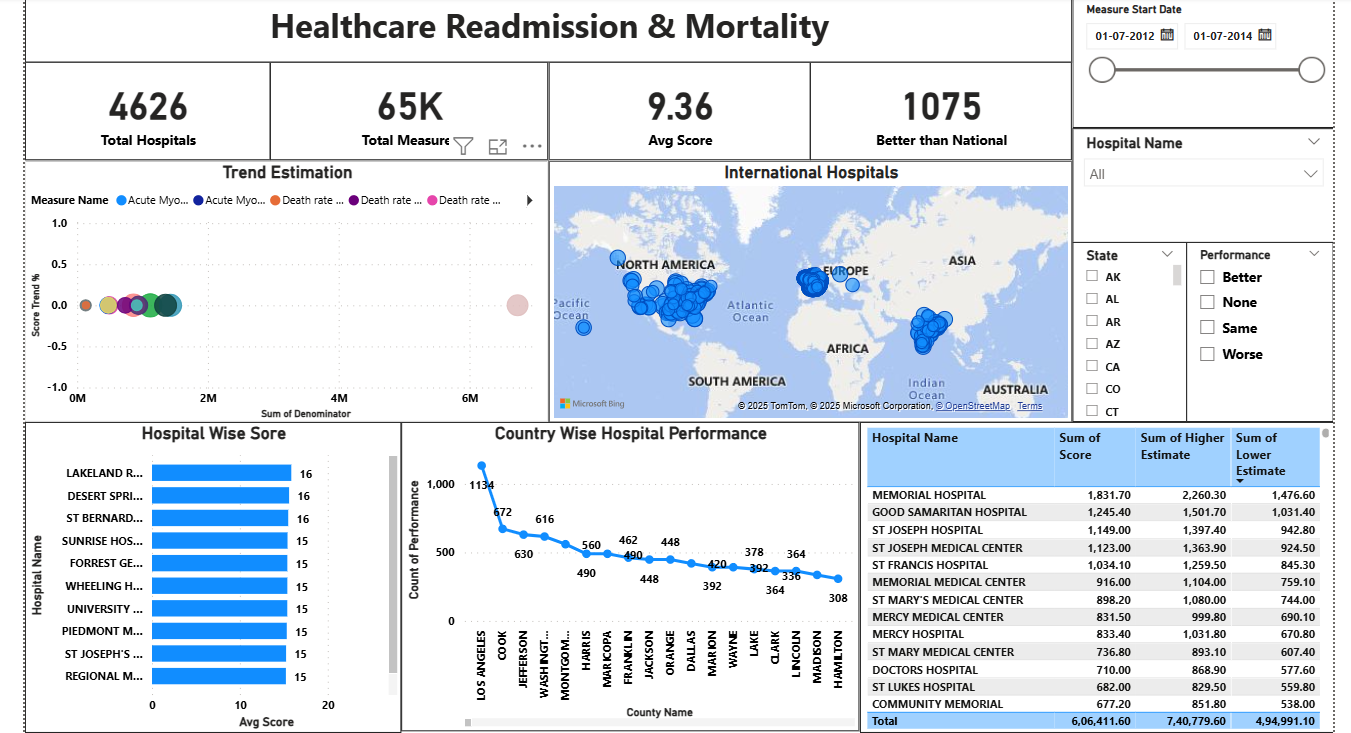

This screenshot's page, from the dashboard's own definition file:
{"tool":"powerbi","page":{"name":"Page 1","canvas":[1280,720],"ordinal":0},"visuals":[{"type":"card","fields":{"Values":["cleaned_healthcare_data.Total Hospitals"]},"box":[0,64,240,96],"z":0},{"type":"card","fields":{"Values":["cleaned_healthcare_data.Total Measures"]},"box":[240,64,272,96],"z":1000},{"type":"card","fields":{"Values":["cleaned_healthcare_data.Avg Score"]},"box":[512,64,256,96],"z":2000},{"type":"card","fields":{"Values":["cleaned_healthcare_data.Better than National"]},"box":[768,64,256,96],"z":3000},{"type":"scatterChart","title":"Trend Estimation","fields":{"X":["Sum(cleaned_healthcare_data.Denominator)"],"Y":["cleaned_healthcare_data.Score Trend %"],"Size":["Sum(cleaned_healthcare_data.Higher Estimate)"],"Series":["cleaned_healthcare_data.Measure Name"]},"box":[0,160,512,256],"z":4000},{"type":"clusteredBarChart","title":"Hospital Wise Sore","fields":{"Category":["cleaned_healthcare_data.Hospital Name"],"Y":["cleaned_healthcare_data.Avg Score"]},"box":[0,416,368,304],"z":5000},{"type":"map","title":"International Hospitals","fields":{"Category":["cleaned_healthcare_data.Latitude","cleaned_healthcare_data.Longitude"],"Size":["cleaned_healthcare_data.Avg Score"]},"box":[512,160,512,256],"z":6000},{"type":"tableEx","fields":{"Values":["cleaned_healthcare_data.Hospital Name","Sum(cleaned_healthcare_data.Score)","Sum(cleaned_healthcare_data.Higher Estimate)","Sum(cleaned_healthcare_data.Lower Estimate)"]},"box":[816,416,464,304],"z":7000},{"type":"slicer","fields":{"Values":["cleaned_healthcare_data.State"]},"box":[1024,240,112,176],"z":8000},{"type":"slicer","fields":{"Values":["cleaned_healthcare_data.Performance"]},"box":[1136,240,144,176],"z":9000},{"type":"slicer","fields":{"Values":["cleaned_healthcare_data.Measure Start Date"]},"box":[1024,0,256,128],"z":10000},{"type":"textbox","box":[0,0,1024,64],"z":11000},{"type":"lineChart","title":"Country Wise Hospital Performance","fields":{"Y":["CountNonNull(cleaned_healthcare_data.Performance)"],"Category":["cleaned_healthcare_data.County Name"]},"box":[368,416,448,302],"z":12000},{"type":"slicer","fields":{"Values":["cleaned_healthcare_data.Hospital Name"]},"box":[1024,128,256,112],"z":12001}]}

Visuals, with their boxes in screenshot pixels (x1, y1, x2, y2):
card - cleaned_healthcare_data.Total Hospitals: box(42, 61, 283, 157)
card - cleaned_healthcare_data.Total Measures: box(283, 61, 555, 157)
card - cleaned_healthcare_data.Avg Score: box(555, 61, 812, 157)
card - cleaned_healthcare_data.Better than National: box(812, 61, 1069, 157)
"Trend Estimation" scatterChart: box(42, 157, 555, 413)
"Hospital Wise Sore" clusteredBarChart: box(42, 413, 411, 718)
"International Hospitals" map: box(555, 157, 1069, 413)
tableEx - cleaned_healthcare_data.Hospital Name x Sum(cleaned_healthcare_data.Score): box(860, 413, 1325, 718)
slicer - cleaned_healthcare_data.State: box(1069, 237, 1181, 413)
slicer - cleaned_healthcare_data.Performance: box(1181, 237, 1325, 413)
slicer - cleaned_healthcare_data.Measure Start Date: box(1069, 0, 1325, 125)
textbox: box(42, 0, 1069, 61)
"Country Wise Hospital Performance" lineChart: box(411, 413, 860, 716)
slicer - cleaned_healthcare_data.Hospital Name: box(1069, 125, 1325, 237)
